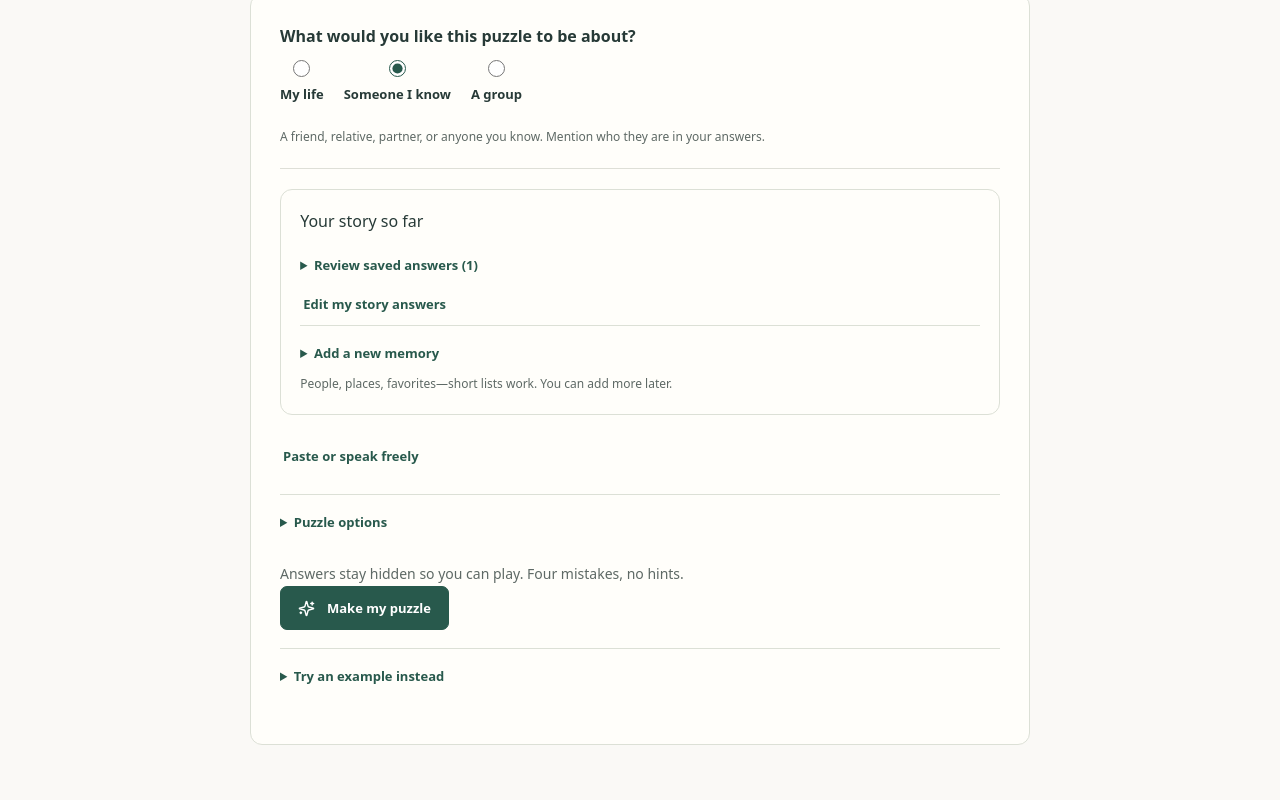
Test case: played connections and optional fresh memories › autosaves the optional answer and makes exactly one requested generation with it
(page scrolled)
Click the button "Make my puzzle". click: [364, 608]
box: [280, 586, 449, 630]
(page scrolled)
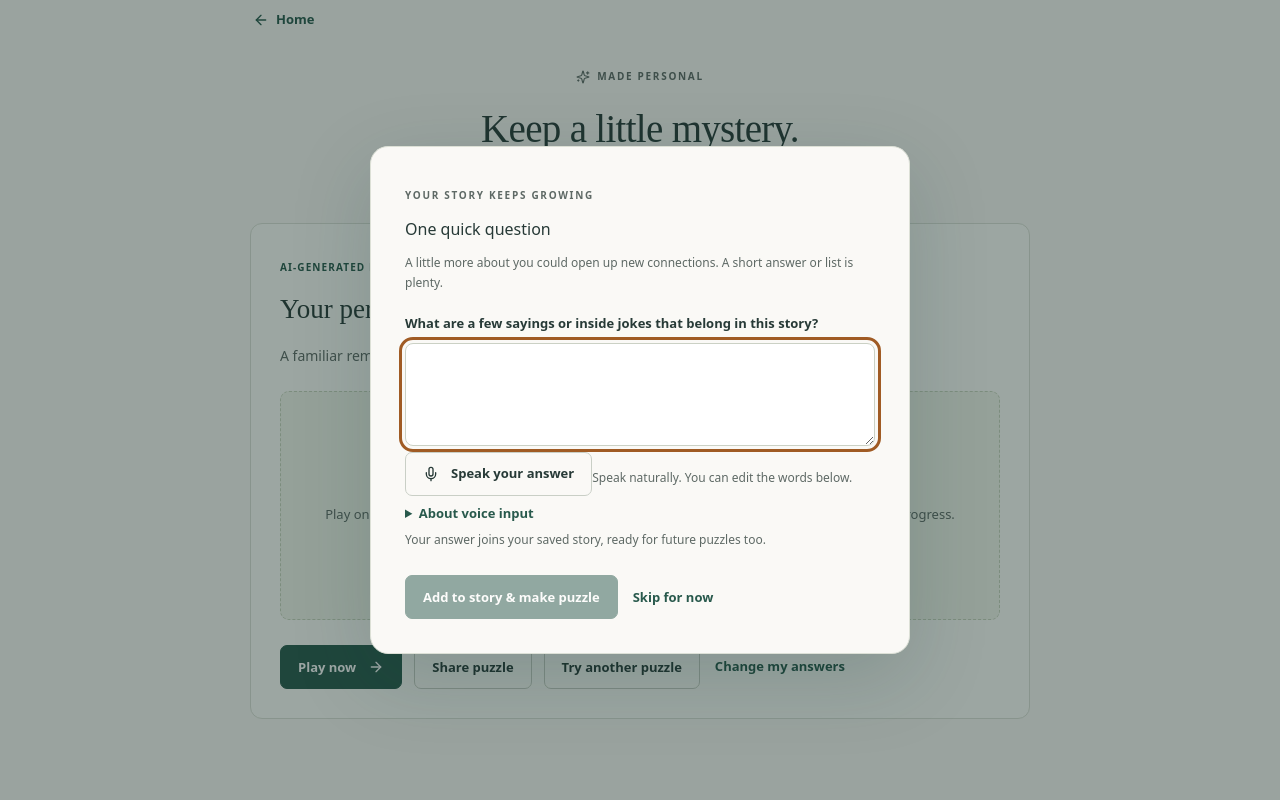
Type "We visited the pier and the lighthouse" into the text box. click: [640, 394]
box: [405, 343, 875, 446]
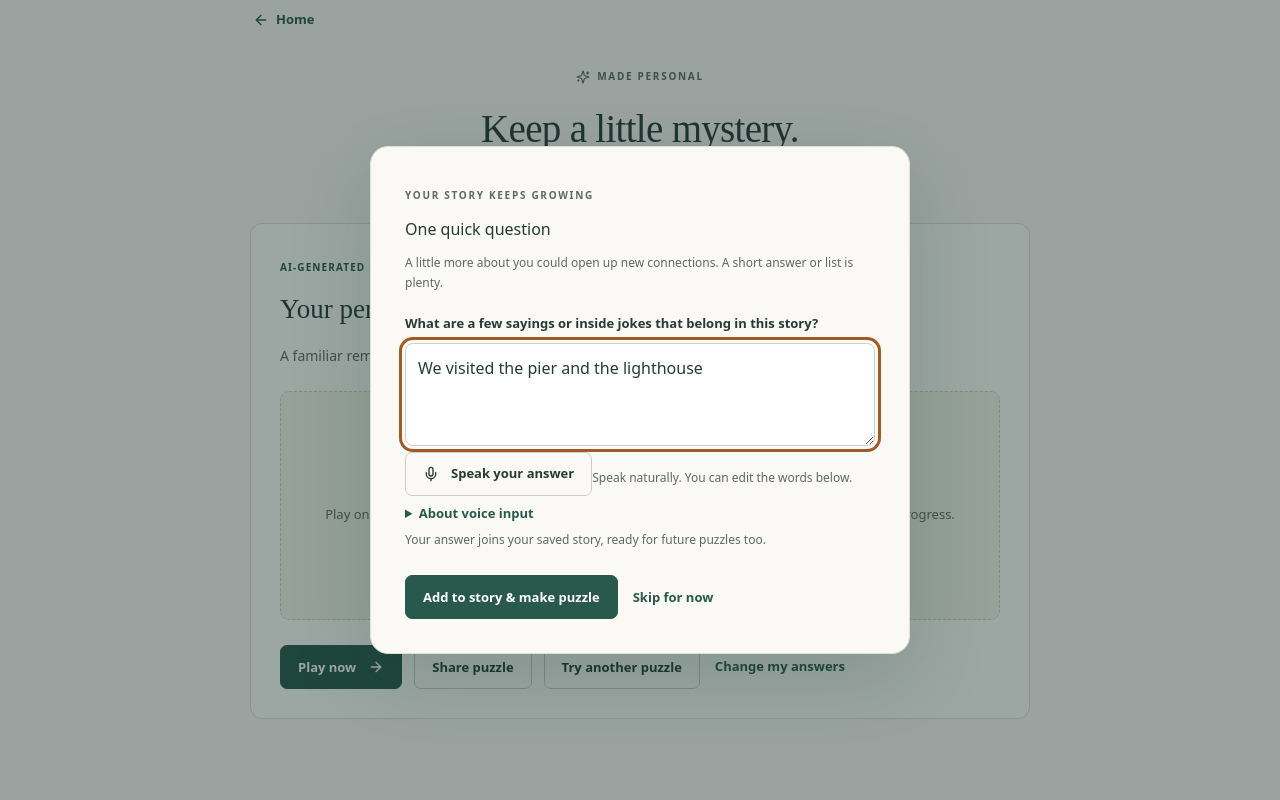
Click the button "Add to story & make puzzle". click: [511, 597]
box: [405, 575, 618, 619]
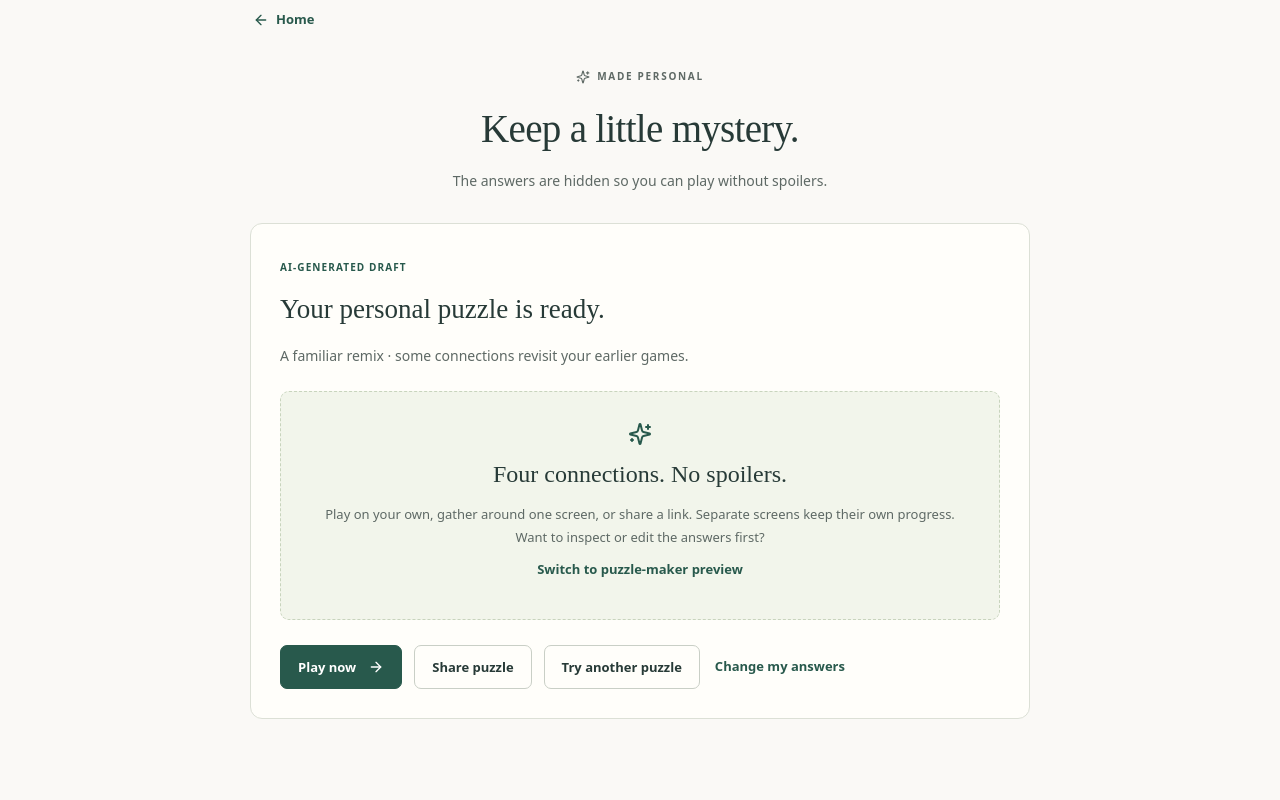
Expected: the heading "One quick question" is gone
